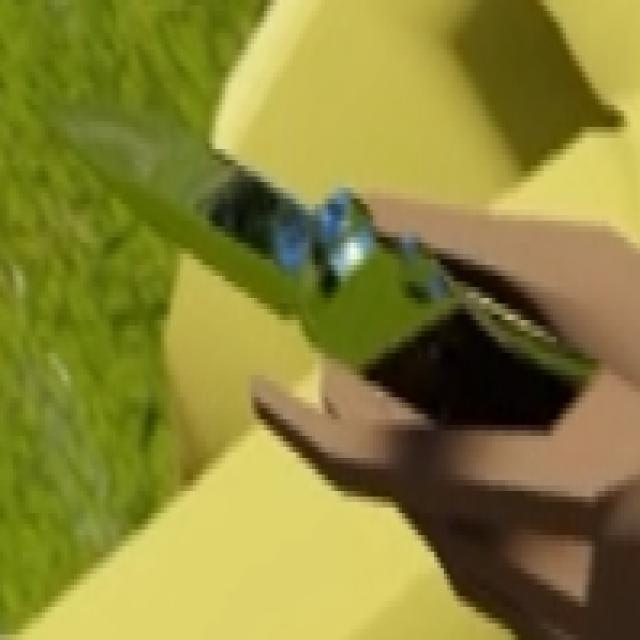Fknife: (18, 81, 600, 476)
